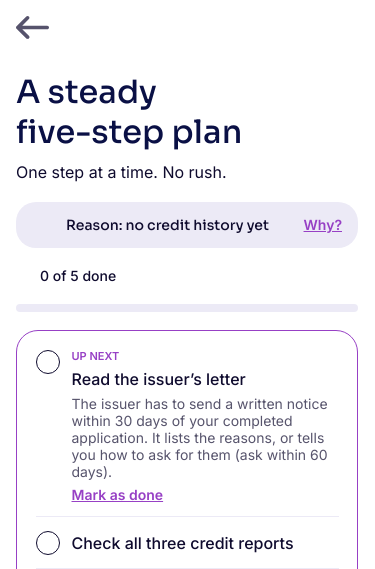
DeniedPlanView › shows the saved reason in a note, with Why? opening the explanation
Expected: the text "Reason: no credit history yet" is shown, top-left (66, 214), bottom-right (292, 236)
Click the button "Why?" at (323, 225), box top-left (304, 215), bottom-right (342, 235)
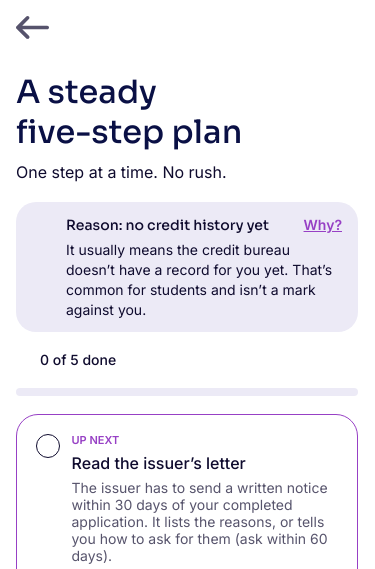
Now the text "the credit bureau doesn’t have a record for you yet" is shown, box top-left (66, 241), bottom-right (332, 318)
